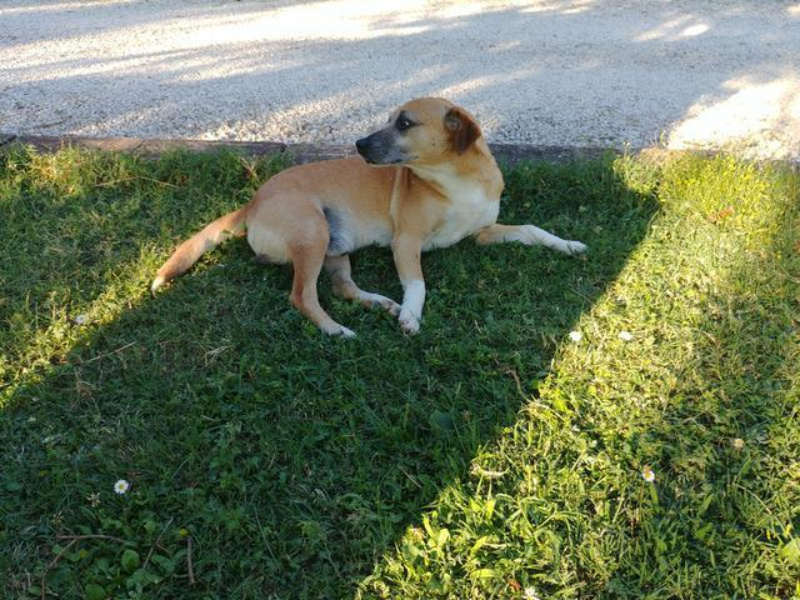puppy: (110, 59, 614, 353)
